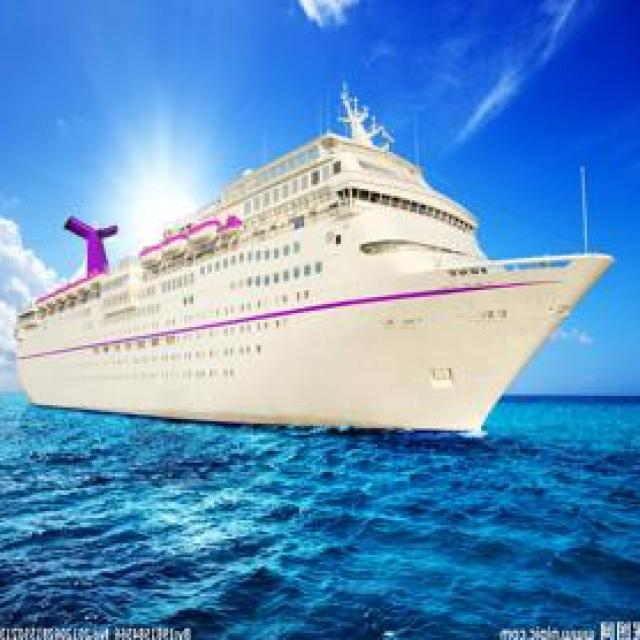passenger ship: (7, 82, 614, 432)
